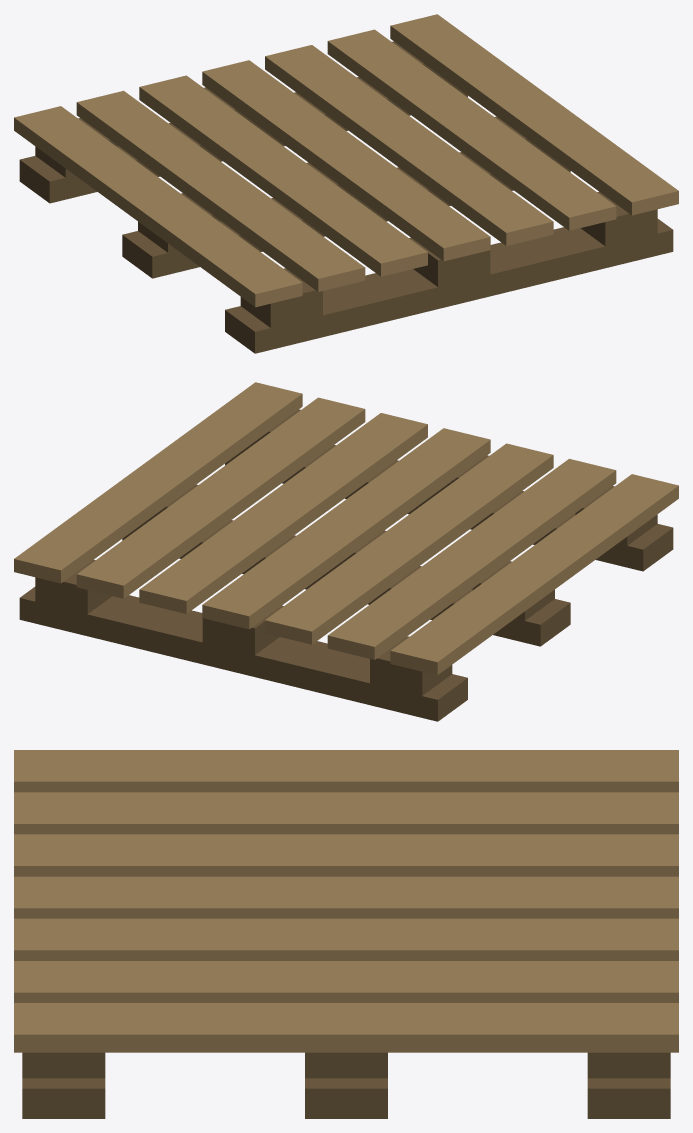
Rendered from prop_pallet.fbx.
3 views of the same model, one above another, from view 1: azimuth 30°, elevation 25°; view 2: azimuth 150°, elevation 25°; view 3: azimuth 270°, elevation 25° (orthographic). The views are drawn at different scales.
Visible parts, largest first — view 1: prop_pallet; view 2: prop_pallet; view 3: prop_pallet.
Part boxes in pixels (<box>): prop_pallet: <box>14,14,678,353</box>; prop_pallet: <box>14,382,678,721</box>; prop_pallet: <box>14,750,678,1118</box>.
Size of the model in its own units: 405 by 57 by 400.
